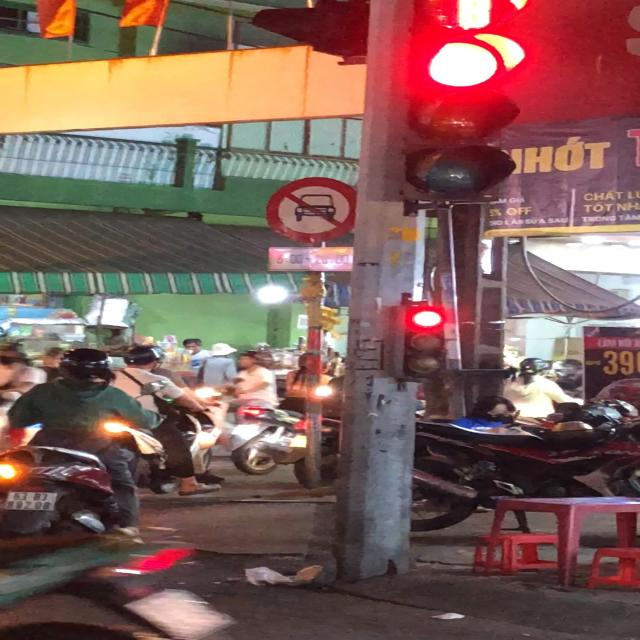Bien bao cam xe oto: (263, 176, 364, 244)
